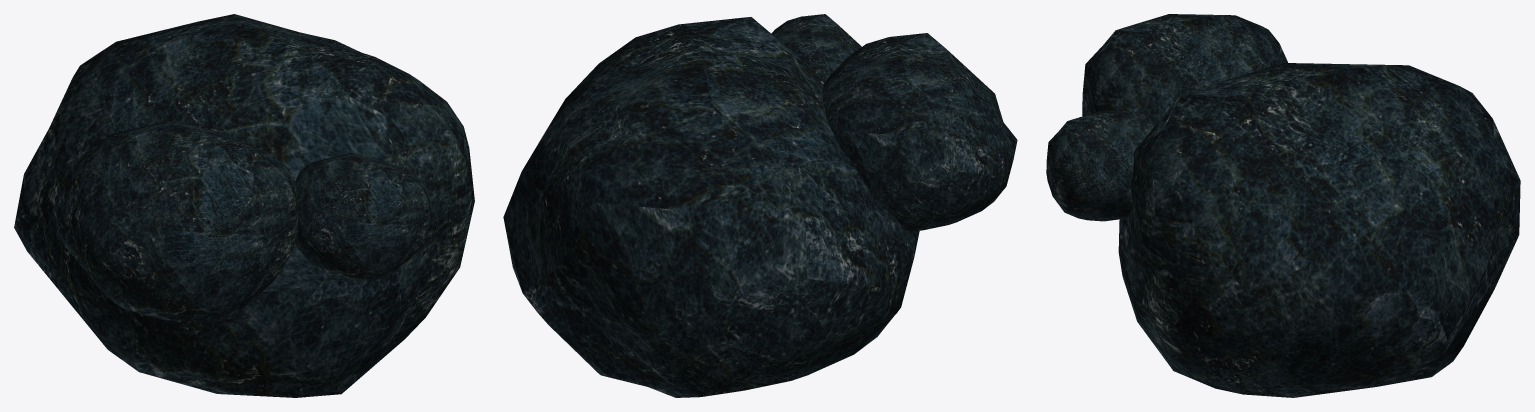
Rendered from Rock Formation 1.fbx.
The picture shows the model from 3 angles, left to right: view 1: azimuth 30°, elevation 25°; view 2: azimuth 150°, elevation 25°; view 3: azimuth 270°, elevation 25°; orthographic projection. The views are drawn at different scales.
Parts seen in each view (by area): view 1: Rocks.004; view 2: Rocks.004; view 3: Rocks.004.
Part boxes in pixels (x1,y1,x2,y2): Rocks.004: [14, 14, 474, 397]; Rocks.004: [503, 14, 1017, 397]; Rocks.004: [1046, 14, 1520, 397].
Size of the model in its own units: 215 by 157 by 226.
